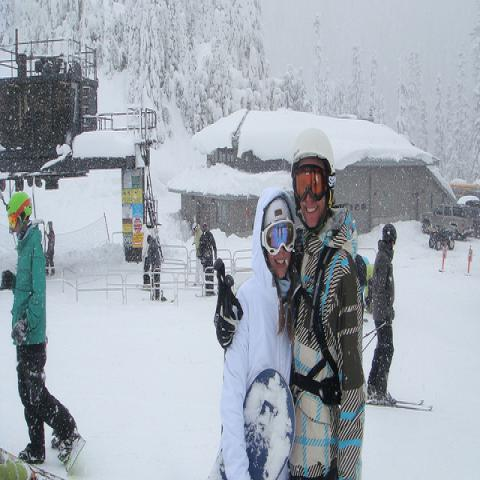car: (420, 204, 474, 241)
truck: (420, 204, 474, 241)
